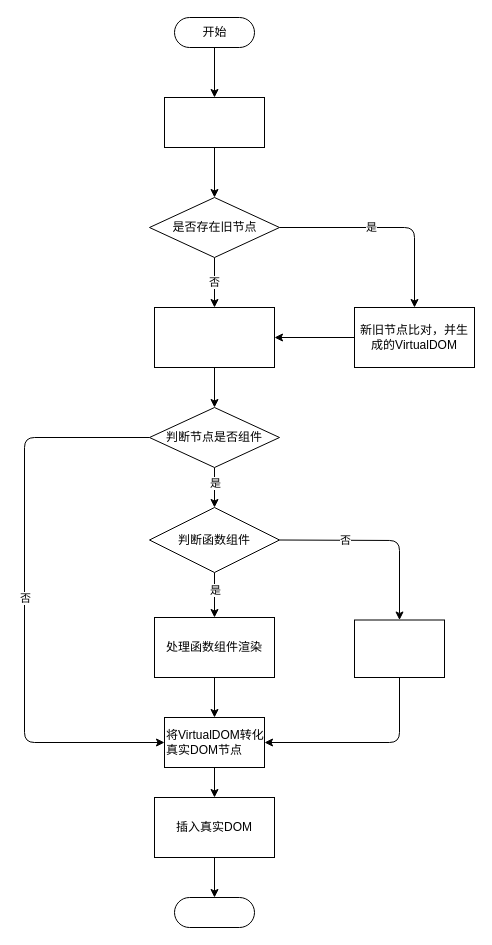
Image size: 492x945. Some labels were removed from this diagram. Here are the shapes that lost their labels. From the top down, the centre of each, then its label:
At pixel 214 122: "进行diff比较".
At pixel 214 337: "准备挂载节点".
At pixel 399 648: "处理类组件渲染".
At pixel 214 912: "结束".
